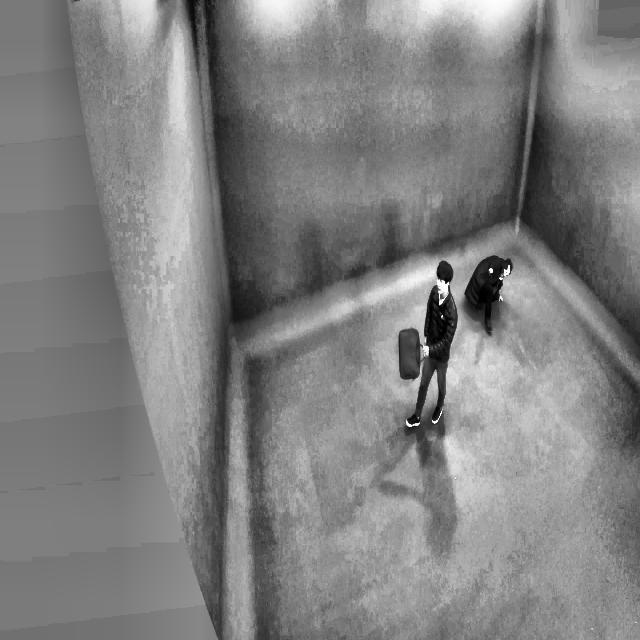assult: (413, 237, 518, 443), (463, 239, 516, 325)
